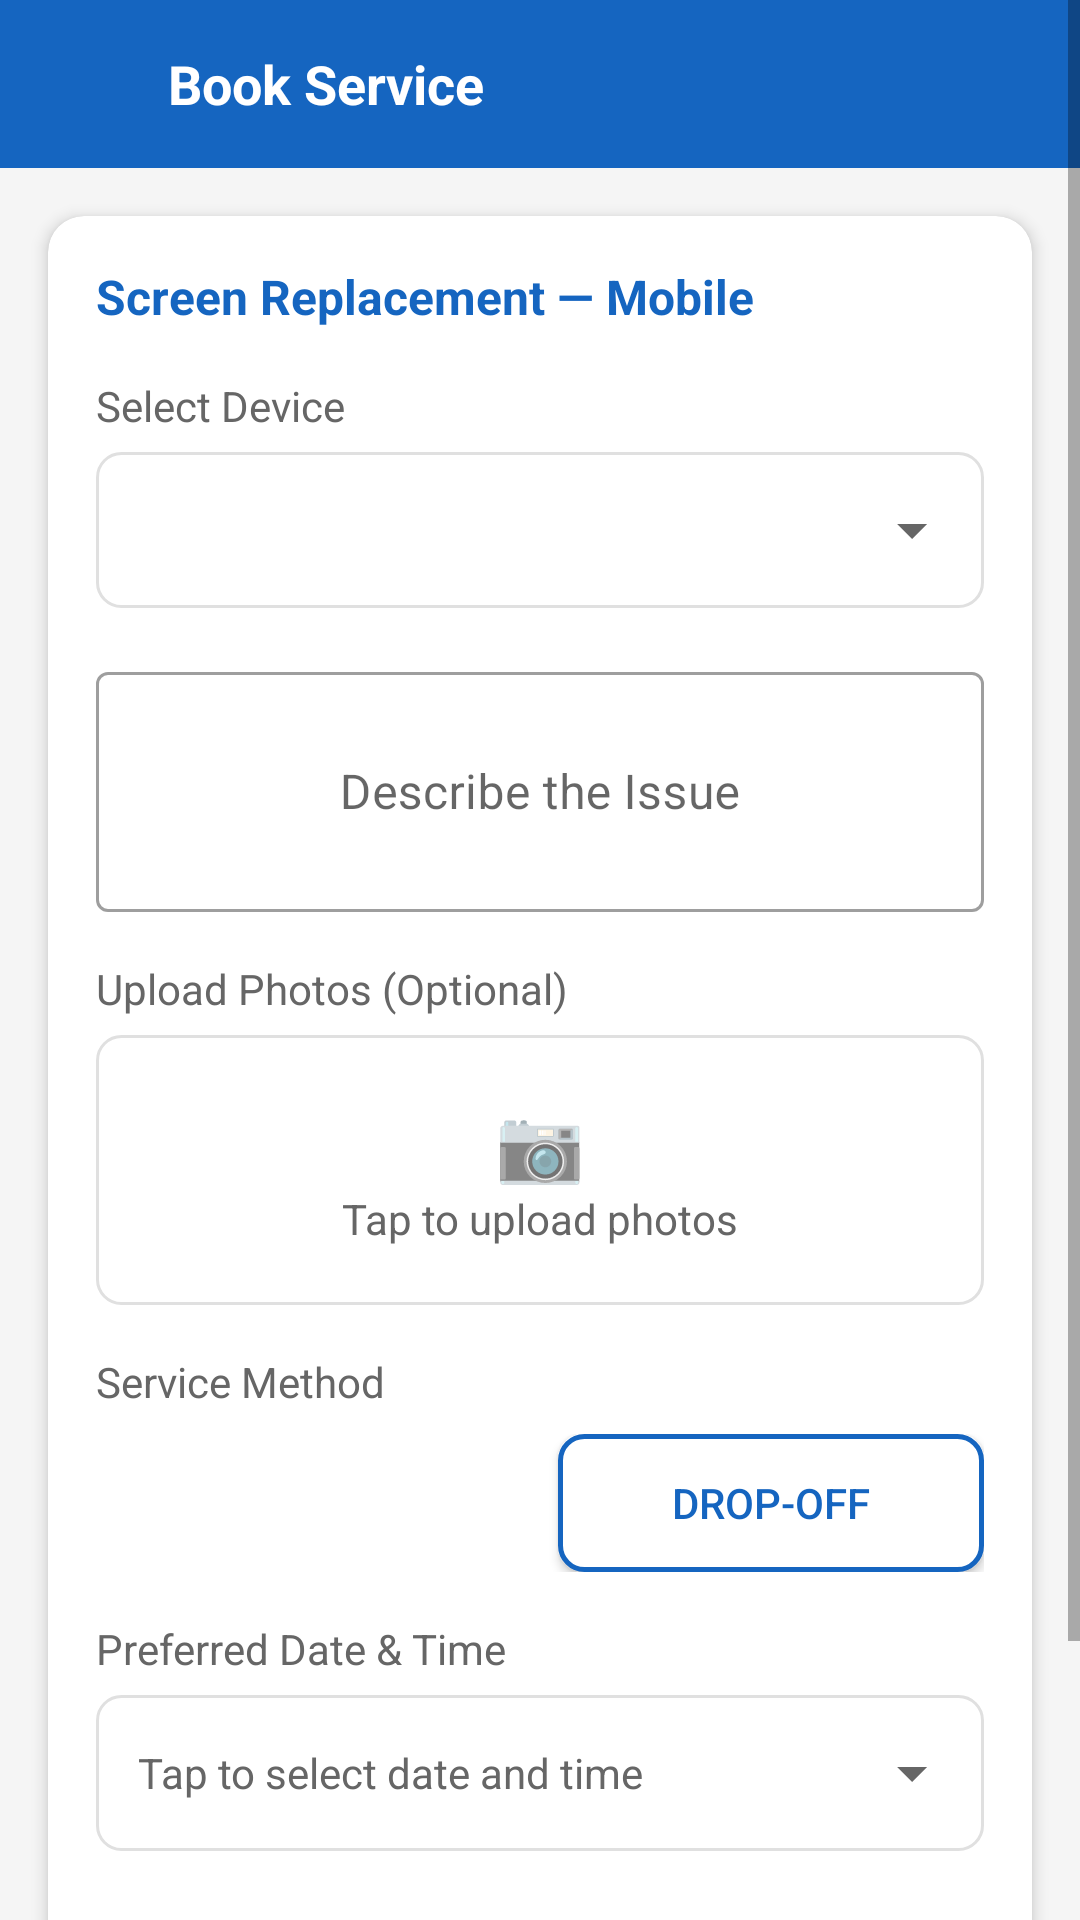

Icons on this 1080w x 1920h Android screen, each with the point to tap as (x,y):
dropdown: (912,531), (912,1774)
